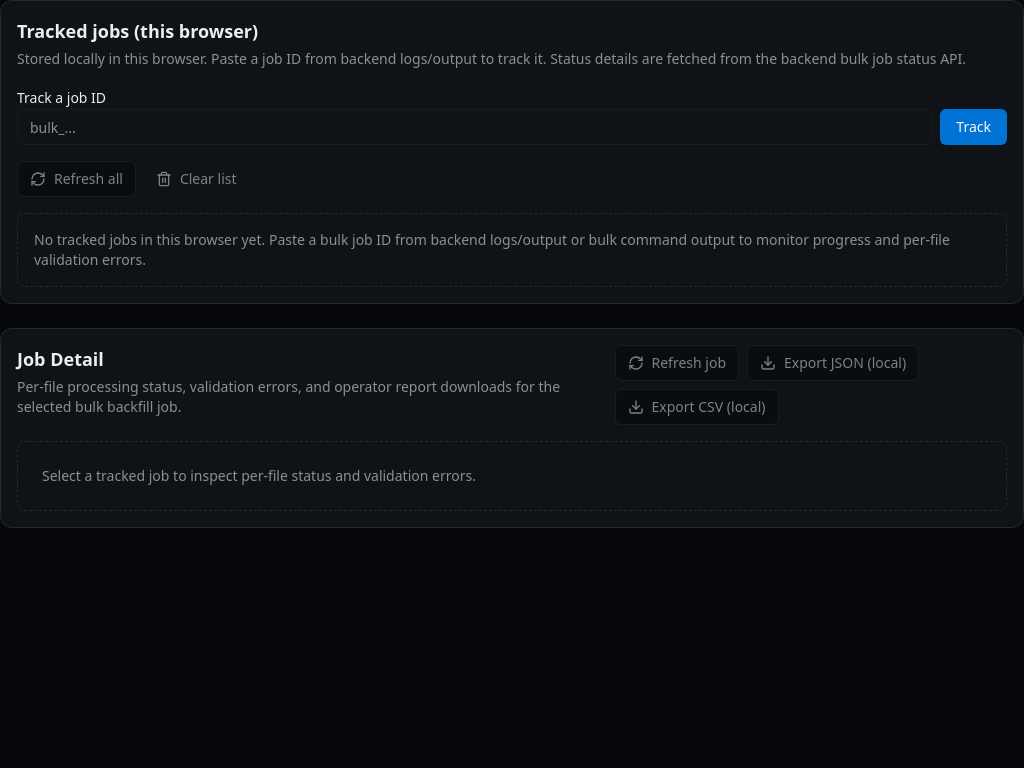
Test: AdminBulkBackfillMonitor › polling stops when a selected job becomes failed
Type "bulk_poll_fail" into the field labelled "Track a job ID".
click(475, 127); type("bulk_poll_fail")  # box [17, 109, 932, 145]
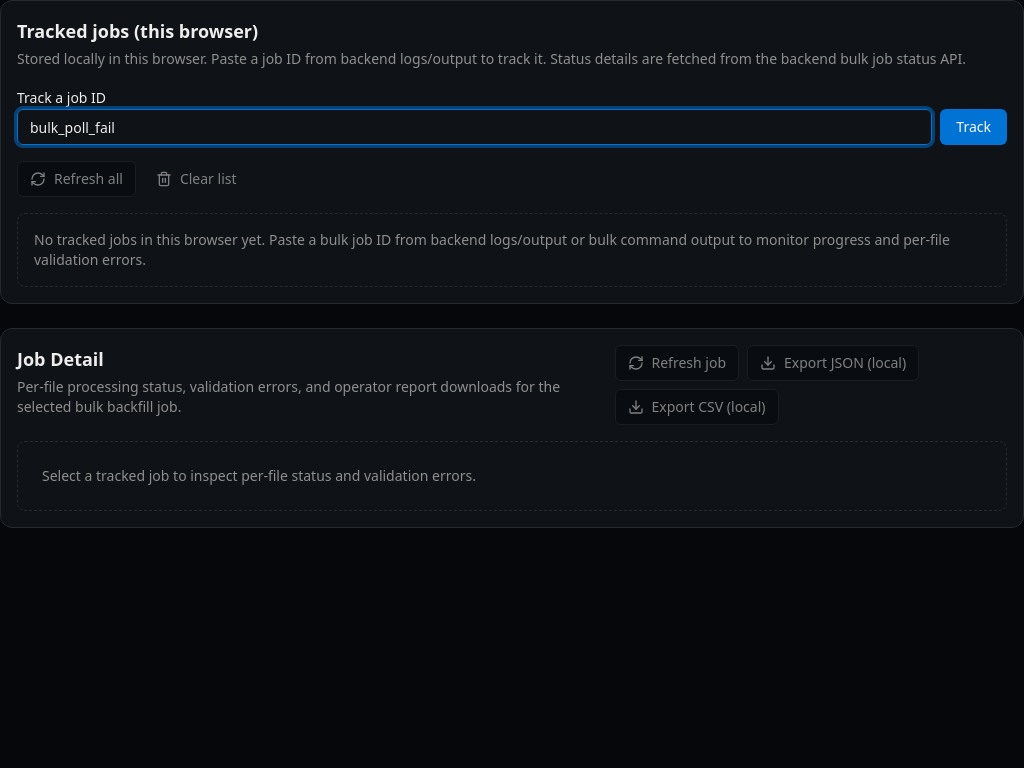
Click the button "Track".
click(974, 127)  # box [940, 109, 1007, 145]
Wait 15000 ms
(page scrolled)
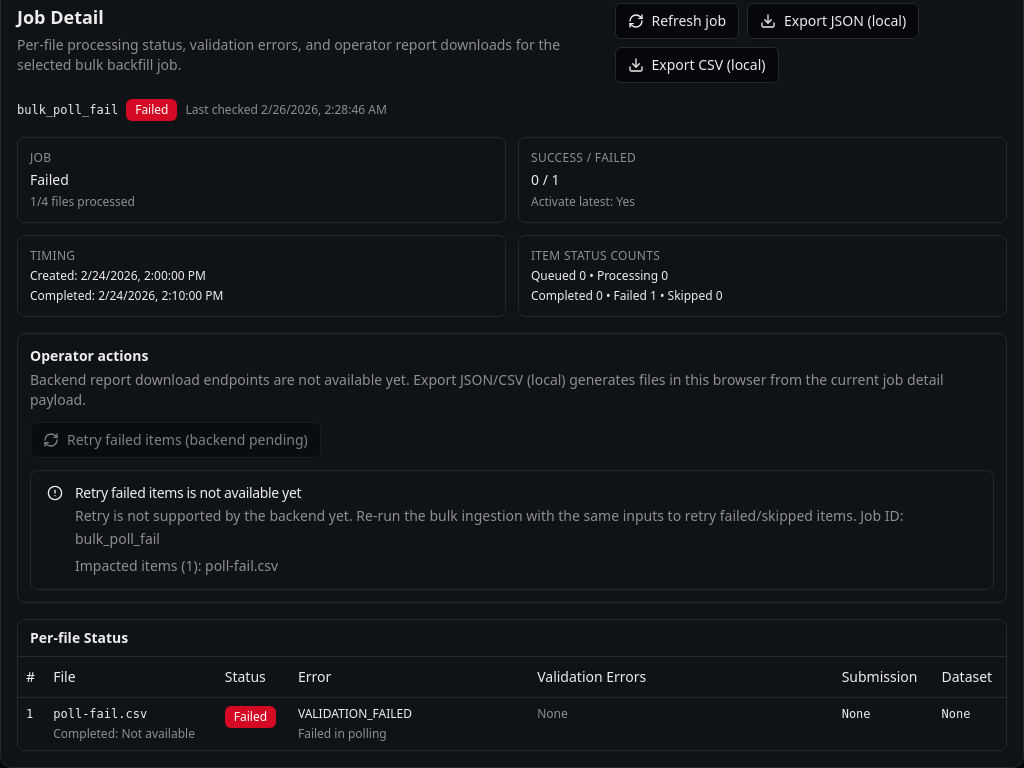
Now the text "poll-fail.csv" is shown, box [53, 707, 147, 721]
Now the text "Retry failed items is not available yet" is shown, box [75, 483, 301, 502]
